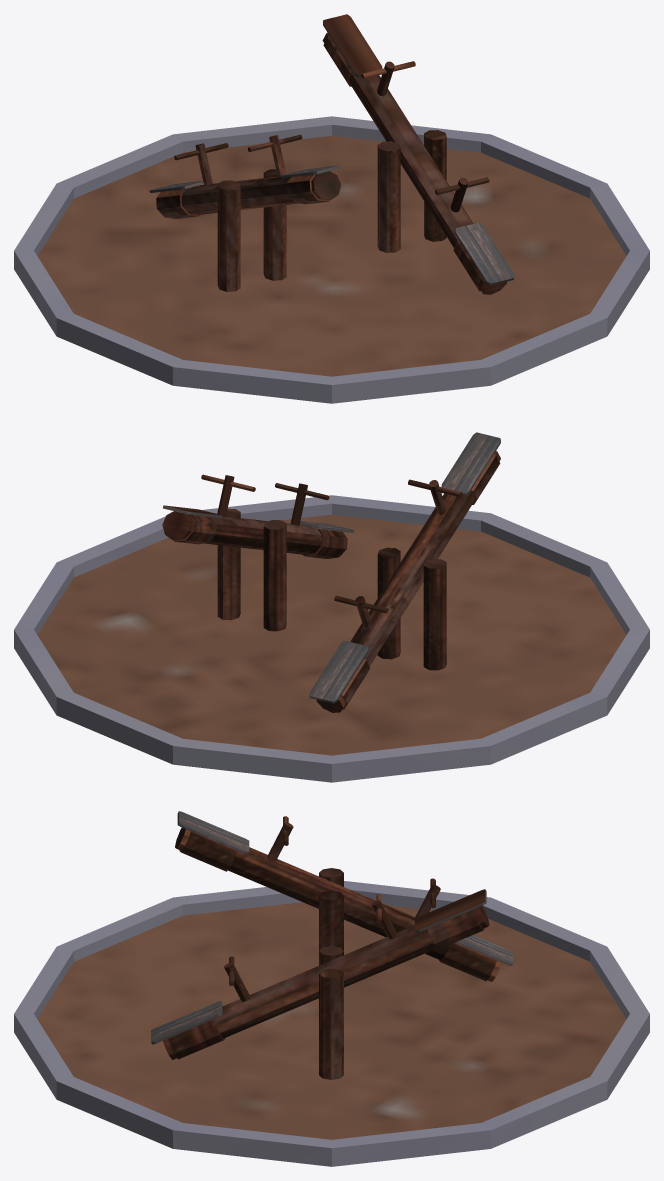
The model's file is Gangorra.fbx.
3 renders of one model, top to bottom at view 1: azimuth 30°, elevation 25°; view 2: azimuth 150°, elevation 25°; view 3: azimuth 270°, elevation 25°, orthographic.
Visible parts, largest first — view 1: Gangorra; view 2: Gangorra; view 3: Gangorra.
Boxes of the visible parts, x1,y1,x2,y2 form: Gangorra: (14,14,649,403); Gangorra: (14,432,649,782); Gangorra: (14,811,649,1166).
Bounding box in the file's own units: 13760 × 4216 × 13760.
